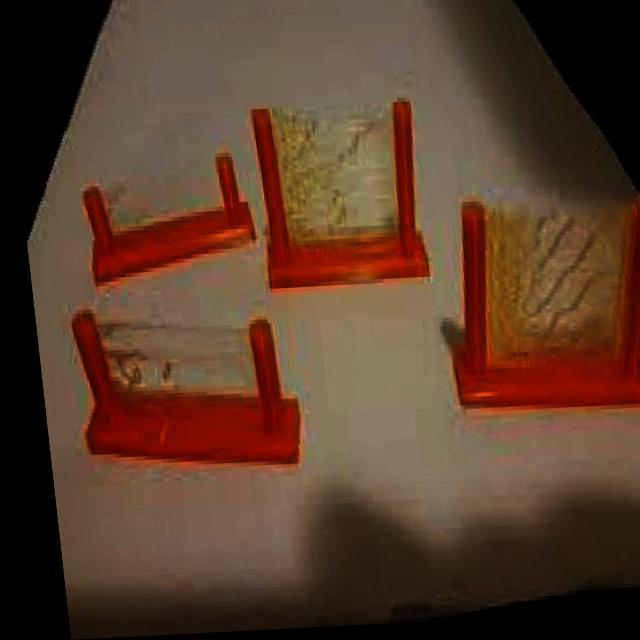stringing: (459, 206, 638, 384), (266, 110, 401, 256)
